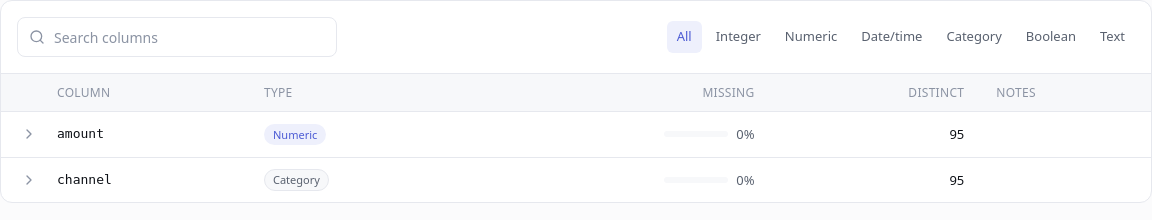
Test case: DatasetColumnsPage › filters columns by type
Check: the text "amount" is shown, box [41,112,248,157]
Click the button "Category" at (974, 37), box [936,21,1012,53]
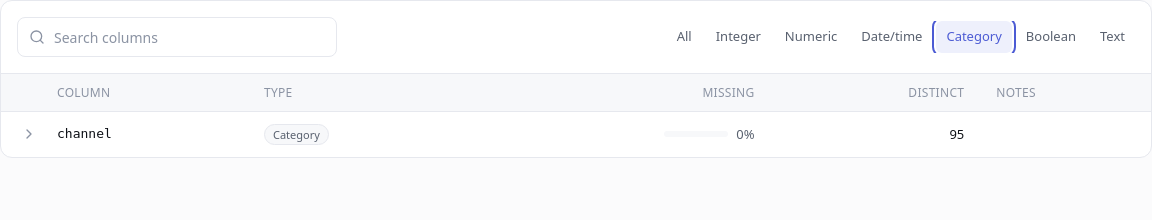
Check: the text "channel" is shown, box [41,112,248,157]
Check: the text "amount" is gone
